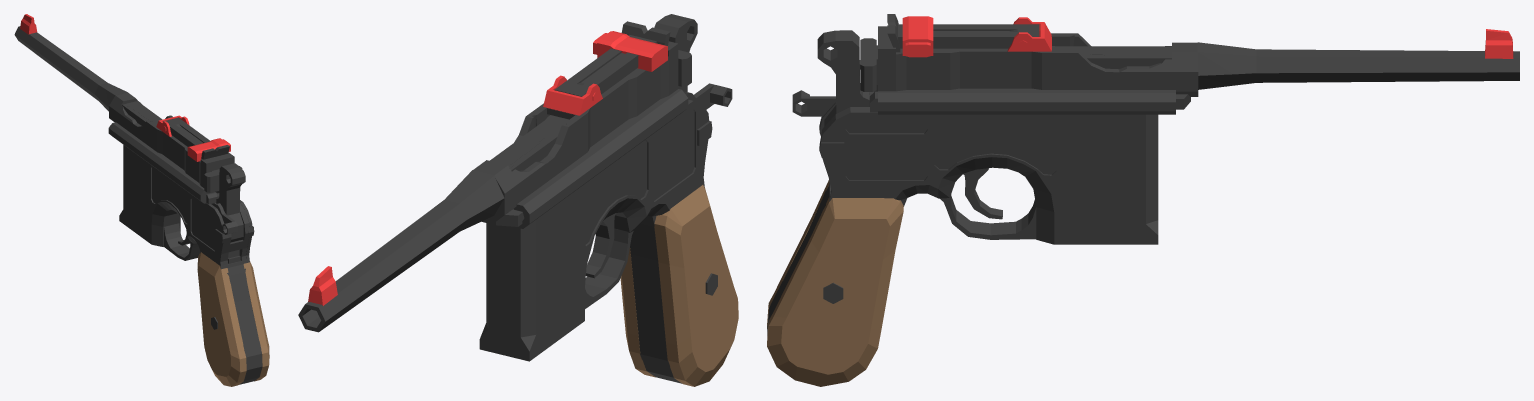
File: pistol_6.glb
3 renders of one model, left to right at view 1: azimuth 30°, elevation 25°; view 2: azimuth 150°, elevation 25°; view 3: azimuth 270°, elevation 25°, orthographic. The views are drawn at different scales.
Visible parts, largest first — view 1: p6_paint, p20_accent, p2_paint, p0_paint, p5_paint, p22_paint, p19_accent, p12_paint, p13_paint, p8_paint, p16_paint, p17_del (+3 smaller); view 2: p6_paint, p20_accent, p2_paint, p0_paint, p5_paint, p12_paint, p8_paint, p13_paint, p17_del, p19_accent, p11_del, p15_paint (+5 smaller); view 3: p6_paint, p19_accent, p2_paint, p0_paint, p4_paint, p12_paint, p22_paint, p8_paint, p13_paint, p17_del, p11_del, p15_paint (+1 smaller).
Part boxes in pixels (bbox=[...]): p6_paint: bbox=[119, 145, 262, 384]; p20_accent: bbox=[197, 252, 246, 386]; p2_paint: bbox=[109, 92, 234, 204]; p0_paint: bbox=[14, 26, 127, 111]; p5_paint: bbox=[108, 122, 209, 203]; p22_paint: bbox=[216, 163, 245, 215]; p19_accent: bbox=[243, 261, 269, 381]; p12_paint: bbox=[163, 117, 229, 159]; p13_paint: bbox=[164, 223, 200, 260]; p8_paint: bbox=[122, 101, 242, 192]; p16_paint: bbox=[211, 203, 249, 265]; p17_del: bbox=[187, 138, 227, 161]; p6_paint: bbox=[479, 100, 709, 383]; p20_accent: bbox=[654, 185, 738, 386]; p2_paint: bbox=[473, 41, 678, 222]; p0_paint: bbox=[298, 170, 504, 332]; p5_paint: bbox=[513, 89, 688, 228]; p12_paint: bbox=[554, 21, 670, 96]; p8_paint: bbox=[490, 50, 691, 171]; p13_paint: bbox=[585, 228, 633, 308]; p17_del: bbox=[597, 31, 667, 71]; p19_accent: bbox=[620, 248, 655, 377]; p11_del: bbox=[543, 75, 602, 115]; p15_paint: bbox=[586, 213, 615, 278]; p6_paint: bbox=[767, 92, 1158, 335]; p19_accent: bbox=[767, 197, 903, 386]; p2_paint: bbox=[870, 26, 1198, 112]; p0_paint: bbox=[1197, 42, 1519, 89]; p4_paint: bbox=[878, 88, 1175, 114]; p12_paint: bbox=[887, 14, 1039, 52]; p22_paint: bbox=[817, 30, 869, 113]; p8_paint: bbox=[860, 38, 1171, 91]; p13_paint: bbox=[940, 194, 1036, 239]; p17_del: bbox=[902, 16, 933, 55]; p11_del: bbox=[1007, 17, 1051, 51]; p15_paint: bbox=[963, 168, 1002, 219].
Size of the model in its own units: 0.0313 by 0.1608 by 0.312.
